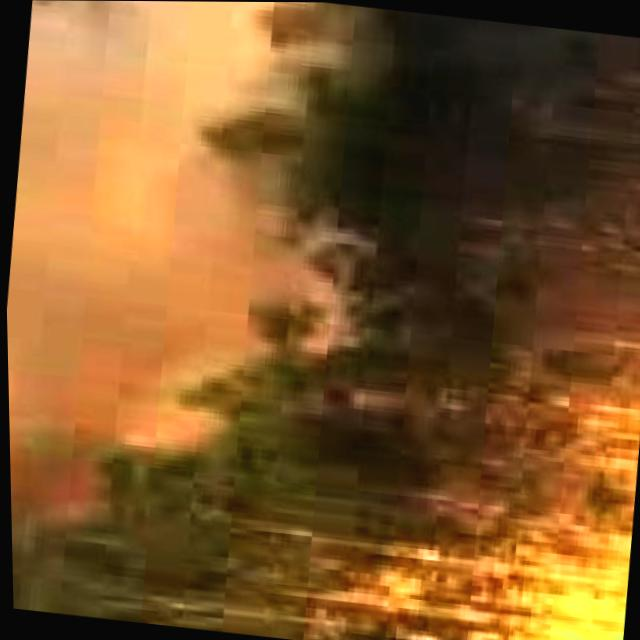fire: (350, 306, 640, 640)
